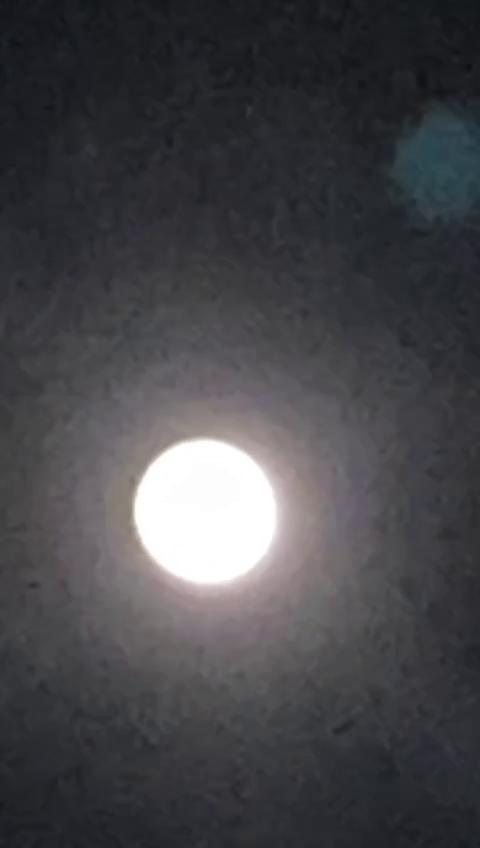moon: (108, 416, 286, 606)
